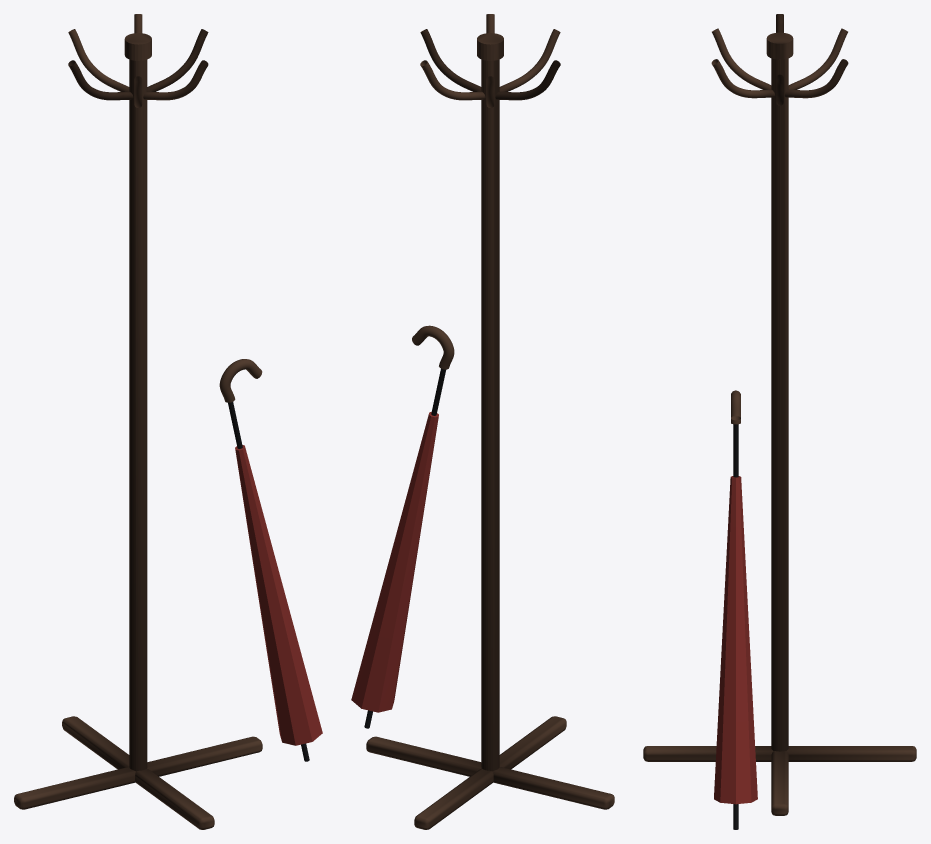
The model's file is coatrack.glb.
The picture shows the model from 3 angles, left to right: view 1: azimuth 30°, elevation 25°; view 2: azimuth 150°, elevation 25°; view 3: azimuth 270°, elevation 25°; orthographic projection. The views are drawn at different scales.
Visible parts, largest first — view 1: Attaccapanni, Ombrello; view 2: Attaccapanni, Ombrello; view 3: Attaccapanni, Ombrello.
Part boxes in pixels (x1=…): Attaccapanni: x1=14, y1=14, x2=262, y2=829; Ombrello: x1=219, y1=359, x2=322, y2=761; Attaccapanni: x1=366, y1=14, x2=614, y2=829; Ombrello: x1=351, y1=325, x2=454, y2=728; Attaccapanni: x1=643, y1=14, x2=916, y2=815; Ombrello: x1=714, y1=390, x2=757, y2=829.
Bounding box in the file's own units: 0.7169 × 1.81 × 0.62.
